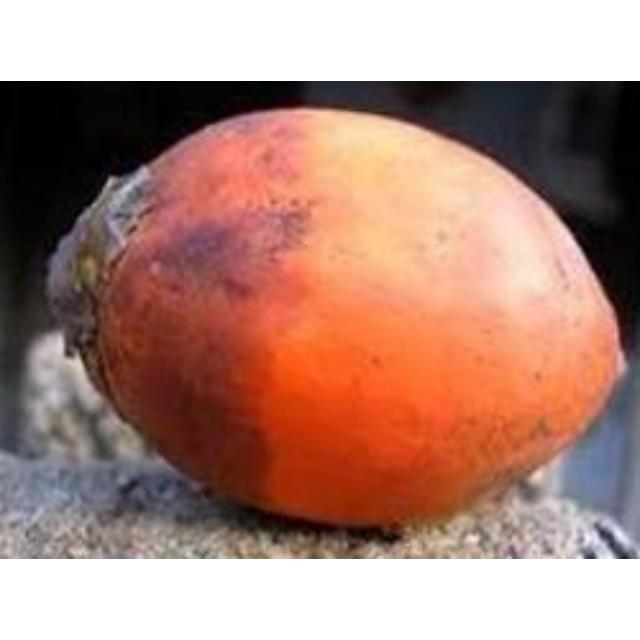good: (44, 107, 627, 539)
